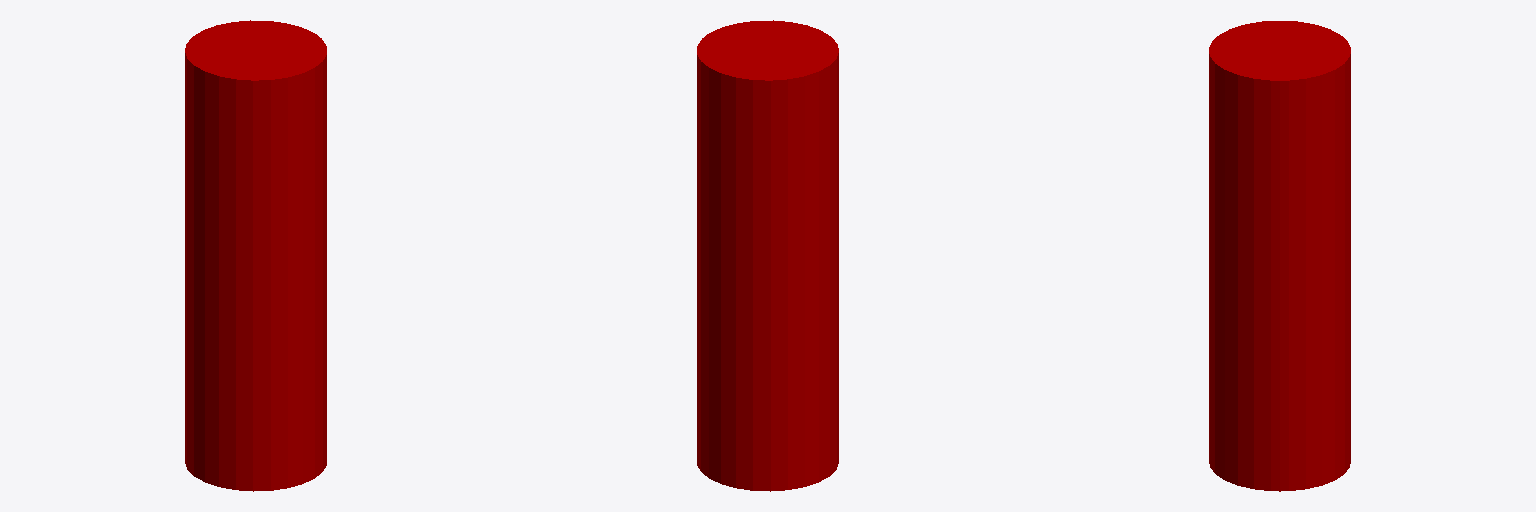
robot.urdf — peg:
<?xml version="1.0" encoding="utf-8"?>
<!-- This URDF was automatically created by SolidWorks to URDF Exporter! Originally created by [author] ([email redacted]) 
     Commit Version: 1.5.1-0-g916b5db  Build Version: 1.5.7152.31018
     For more information, please see http://wiki.ros.org/sw_urdf_exporter -->
<robot
  name="peg">
  <link
    name="peg">
    <inertial>
      <origin
        xyz="-9.0138E-20 1.55525006935442E-18 0.0254"
        rpy="0 0 0" />
      <mass
        value="0.010216" />
      <inertia
        ixx="2.3606E-06"
        ixy="-1.37223264977566E-39"
        ixz="2.2411E-23"
        iyy="2.3606E-06"
        iyz="-1.24517361753482E-22"
        izz="3.2701E-07" />
    </inertial>
    <visual>
      <origin
        xyz="0 0 0"
        rpy="1.5707963267949 0 0" />
      <geometry>
        <mesh
          filename="package://peg/meshes/peg.STL" />
      </geometry>
      <material
        name="">
        <color
          rgba="0.74902 0 0 1" />
        <texture
          filename="package://peg/textures/" />
      </material>
    </visual>
    <collision>
      <origin
        xyz="0 0 0"
        rpy="1.5707963267949 0 0" />
      <geometry>
        <mesh
          filename="package://peg/meshes/peg.STL" />
      </geometry>
    </collision>
  </link>
</robot>

--- Render facts (derived) ---
3 views of the same robot in one strip: view 1: azimuth 30°, elevation 25°; view 2: azimuth 150°, elevation 25°; view 3: azimuth 270°, elevation 25° (orthographic).
Model peg with 1 links and 0 joints (none), rooted at peg, posed every joint at zero.
Visible links, largest first — view 1: peg; view 2: peg; view 3: peg.
Boxes of the visible links, x1,y1,x2,y2 form: peg: [185, 20, 326, 491]; peg: [697, 20, 838, 491]; peg: [1209, 21, 1350, 491].
Bounding box of the posed robot: 0.016 × 0.016 × 0.0508 m (x, y, z).
Meshes: 1 distinct files referenced, 1 mesh visuals loaded (1 binary STL).
